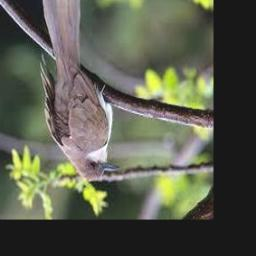Cuckoo: (39, 0, 119, 181)
